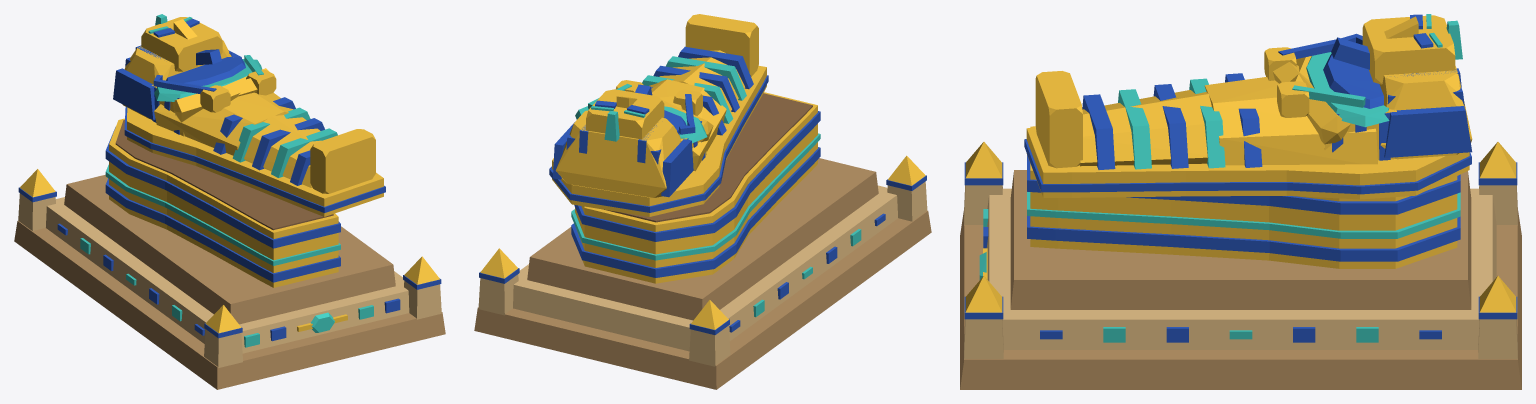
File: Desert_4_Sarcophagus.fbx
The picture shows the model from 3 angles, left to right: view 1: azimuth 30°, elevation 25°; view 2: azimuth 150°, elevation 25°; view 3: azimuth 270°, elevation 25°; orthographic projection. The views are drawn at different scales.
Parts seen in each view (by area): view 1: Desert_4_Sarcophagus__Desert_Gold, Desert_4_Sarcophagus__Desert_SandstoneDark, Desert_4_Sarcophagus__Desert_Lapis, Desert_4_Sarcophagus__Desert_Sandstone, Desert_4_Sarcophagus__Desert_Turquoise, Desert_4_Sarcophagus__Desert_PyramidDark; view 2: Desert_4_Sarcophagus__Desert_SandstoneDark, Desert_4_Sarcophagus__Desert_Gold, Desert_4_Sarcophagus__Desert_Sandstone, Desert_4_Sarcophagus__Desert_Lapis, Desert_4_Sarcophagus__Desert_Turquoise, Desert_4_Sarcophagus__Desert_PyramidDark; view 3: Desert_4_Sarcophagus__Desert_Gold, Desert_4_Sarcophagus__Desert_SandstoneDark, Desert_4_Sarcophagus__Desert_Lapis, Desert_4_Sarcophagus__Desert_Sandstone, Desert_4_Sarcophagus__Desert_Turquoise.
Boxes of the visible parts, x1=… form: Desert_4_Sarcophagus__Desert_Gold: x1=20, y1=17, x2=439, y2=333; Desert_4_Sarcophagus__Desert_SandstoneDark: x1=14, y1=174, x2=445, y2=389; Desert_4_Sarcophagus__Desert_Lapis: x1=18, y1=19, x2=441, y2=341; Desert_4_Sarcophagus__Desert_Sandstone: x1=18, y1=193, x2=441, y2=367; Desert_4_Sarcophagus__Desert_Turquoise: x1=80, y1=14, x2=373, y2=347; Desert_4_Sarcophagus__Desert_PyramidDark: x1=115, y1=120, x2=333, y2=230; Desert_4_Sarcophagus__Desert_SandstoneDark: x1=474, y1=158, x2=931, y2=389; Desert_4_Sarcophagus__Desert_Gold: x1=480, y1=14, x2=925, y2=329; Desert_4_Sarcophagus__Desert_Sandstone: x1=478, y1=181, x2=927, y2=366; Desert_4_Sarcophagus__Desert_Lapis: x1=479, y1=46, x2=926, y2=334; Desert_4_Sarcophagus__Desert_Turquoise: x1=571, y1=56, x2=861, y2=317; Desert_4_Sarcophagus__Desert_PyramidDark: x1=604, y1=93, x2=812, y2=222; Desert_4_Sarcophagus__Desert_Gold: x1=965, y1=15, x2=1516, y2=312; Desert_4_Sarcophagus__Desert_SandstoneDark: x1=960, y1=170, x2=1521, y2=389; Desert_4_Sarcophagus__Desert_Lapis: x1=964, y1=14, x2=1517, y2=342; Desert_4_Sarcophagus__Desert_Sandstone: x1=964, y1=185, x2=1517, y2=359; Desert_4_Sarcophagus__Desert_Turquoise: x1=979, y1=14, x2=1462, y2=342.
Bounding box in the file's own units: 26 × 23.65 × 40.
